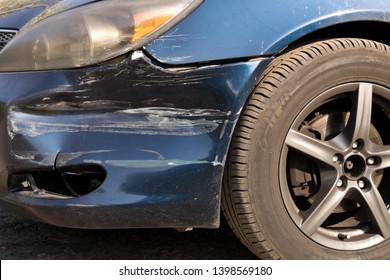front-bumper-dent: (0, 58, 276, 229)
